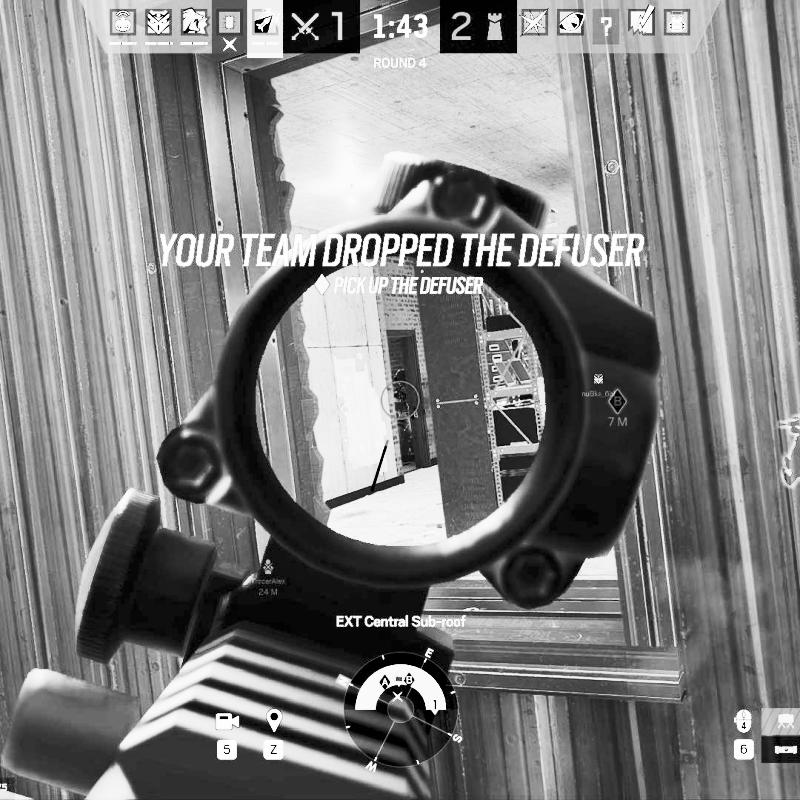Character: (392, 367, 415, 464)
Friend_label: (581, 372, 616, 398)
Head: (393, 369, 408, 386)
